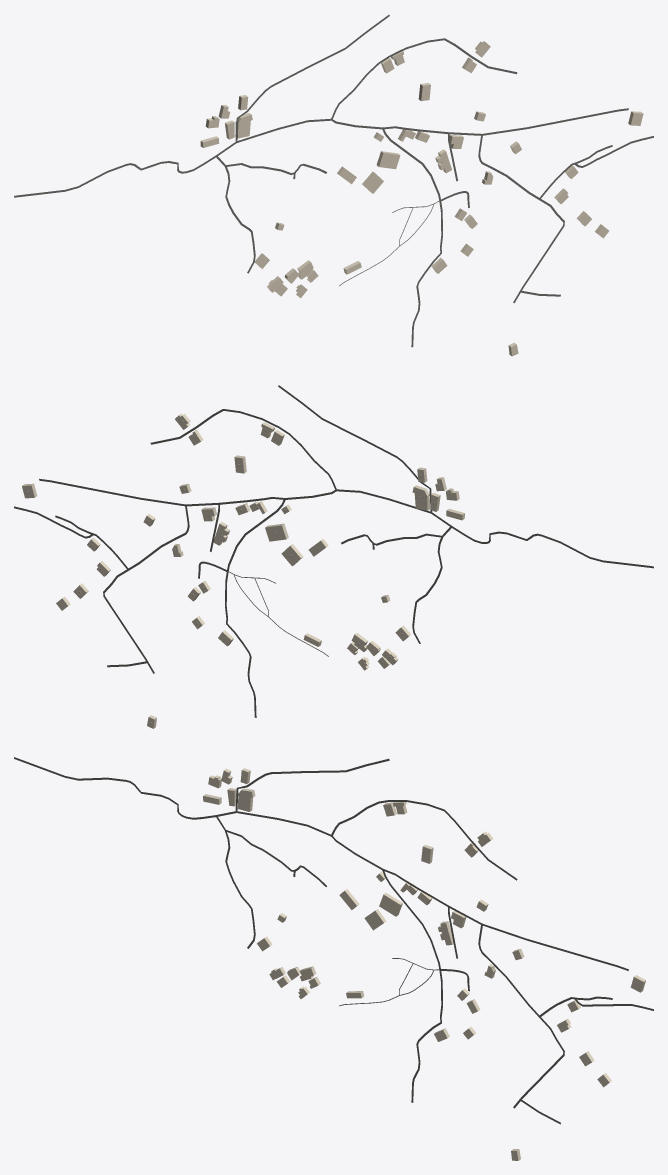
File: historic-palestine-09_24_3513_3185.glb
3 views of the same model, one above another, from view 1: azimuth 30°, elevation 25°; view 2: azimuth 150°, elevation 25°; view 3: azimuth 330°, elevation 25° (orthographic).
Parts seen in each view (by area): view 1: Road .006, Road .008, Road .002, Road; view 2: Road .006, Road .008, Road, Road .002; view 3: Road .006, Road .008.
Part boxes in pixels (x1,y1,x2,y2): Road .006: (14, 108, 628, 197); Road .008: (382, 128, 442, 347); Road .002: (478, 135, 564, 303); Road: (331, 38, 517, 119); Road .006: (39, 478, 653, 568); Road .008: (225, 498, 285, 717); Road: (150, 409, 336, 490); Road .002: (103, 505, 189, 673); Road .006: (14, 757, 628, 970); Road .008: (382, 870, 442, 1102).
Bounding box in the file's own units: 1099 × 611 × 8.7.
